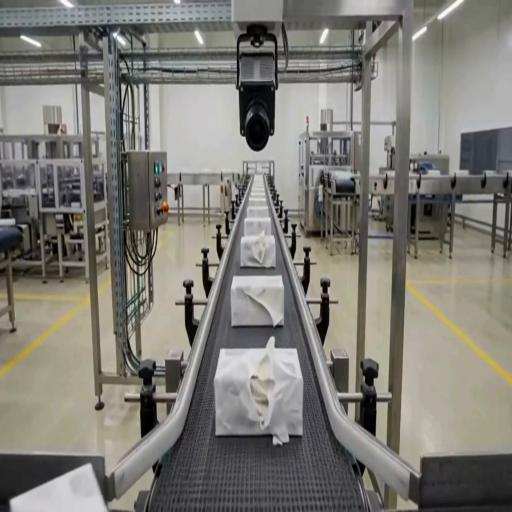defective: (214, 340, 302, 441), (230, 275, 286, 328), (239, 232, 277, 269)
good: (8, 462, 110, 511), (244, 217, 272, 238), (245, 205, 270, 220)
